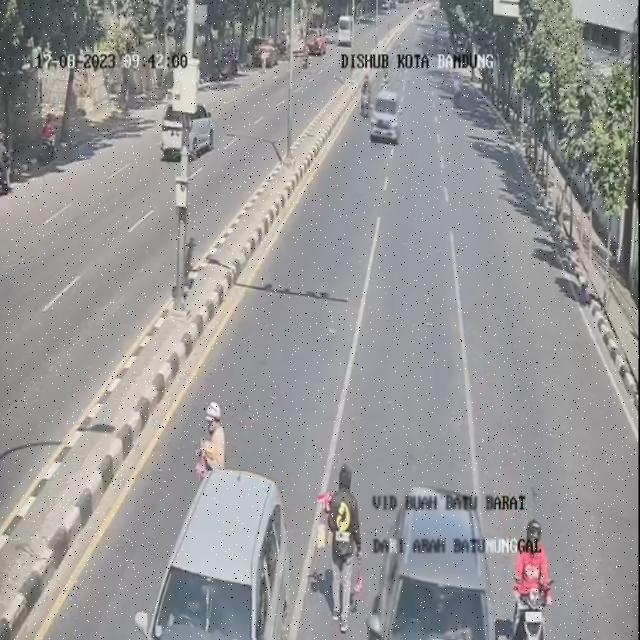cars: (135, 472, 288, 638), (367, 485, 495, 639), (371, 89, 401, 143)
motorcycle: (362, 73, 372, 116), (454, 73, 463, 105), (380, 67, 389, 89)
